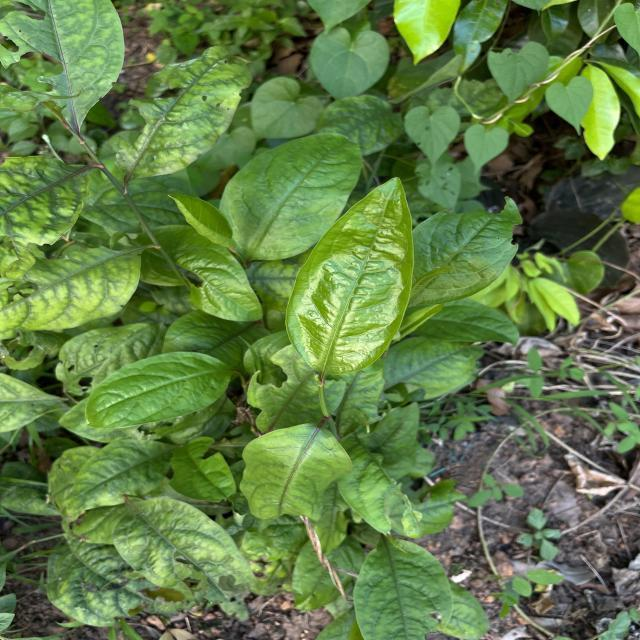Plumbago indica: (280, 174, 418, 379), (218, 128, 366, 262), (113, 41, 254, 180), (112, 496, 258, 602), (411, 190, 526, 308), (238, 421, 356, 526), (82, 348, 233, 430), (238, 422, 354, 522)
